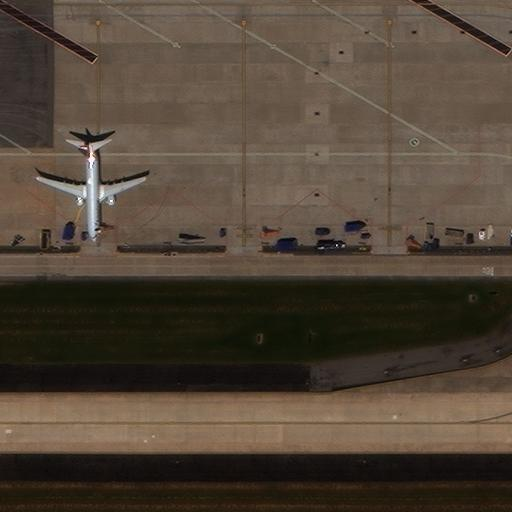Medium Civil Transport: (35, 139, 147, 243)
